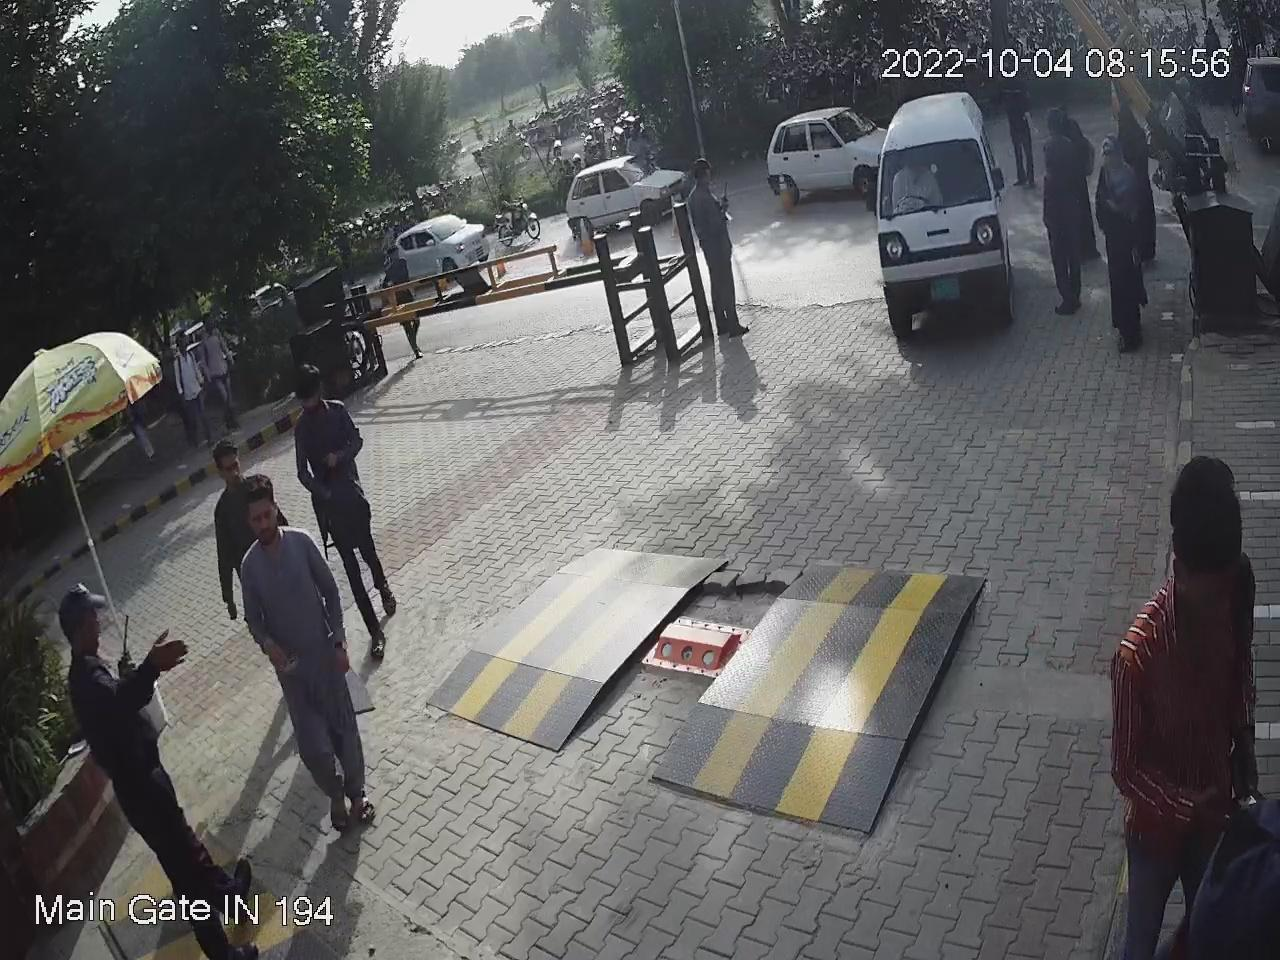windshield: (876, 135, 996, 230)
